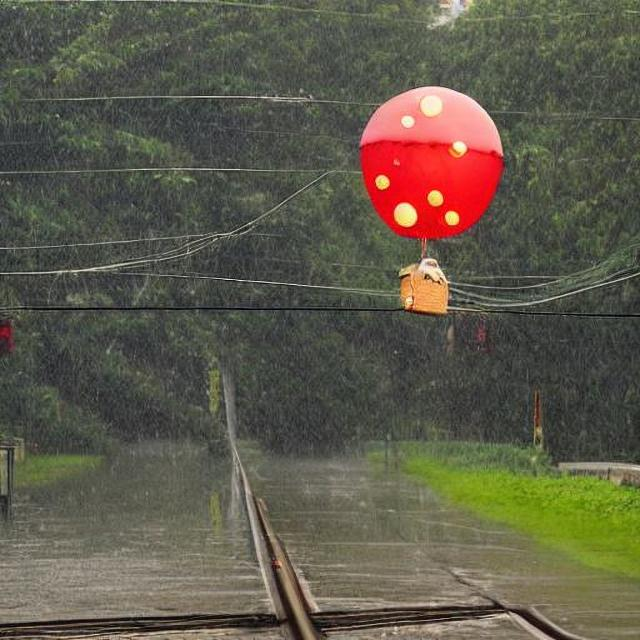balloon: (354, 86, 506, 236)
